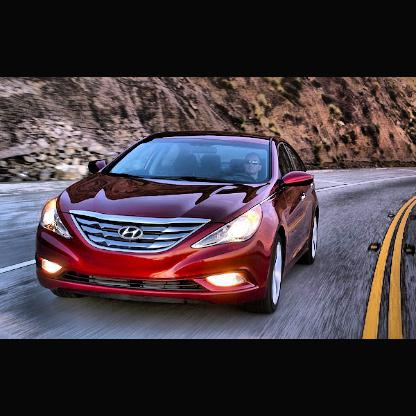Hyundai Sonata Sedan 2012: (32, 126, 323, 309)
